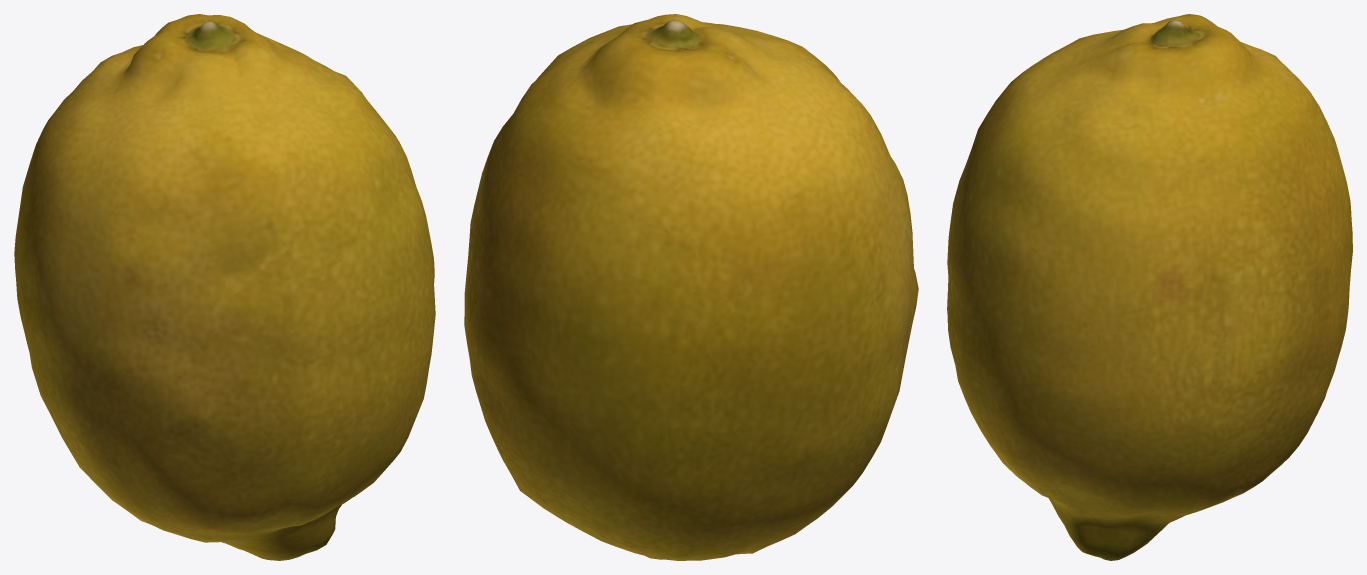
Rendered from polyhaven-lemon.glb.
3 views of the same model, side by side, from view 1: azimuth 30°, elevation 25°; view 2: azimuth 150°, elevation 25°; view 3: azimuth 270°, elevation 25° (orthographic). The views are drawn at different scales.
Visible parts, largest first — view 1: lemon; view 2: lemon; view 3: lemon.
Part boxes in pixels (box(x1,y1,x2,y2)): lemon: box(14, 14, 435, 560); lemon: box(464, 14, 918, 560); lemon: box(947, 14, 1352, 560).
Bounding box in the file's own units: 0.0687 × 0.0954 × 0.0683.
1 material, 1 textured.
